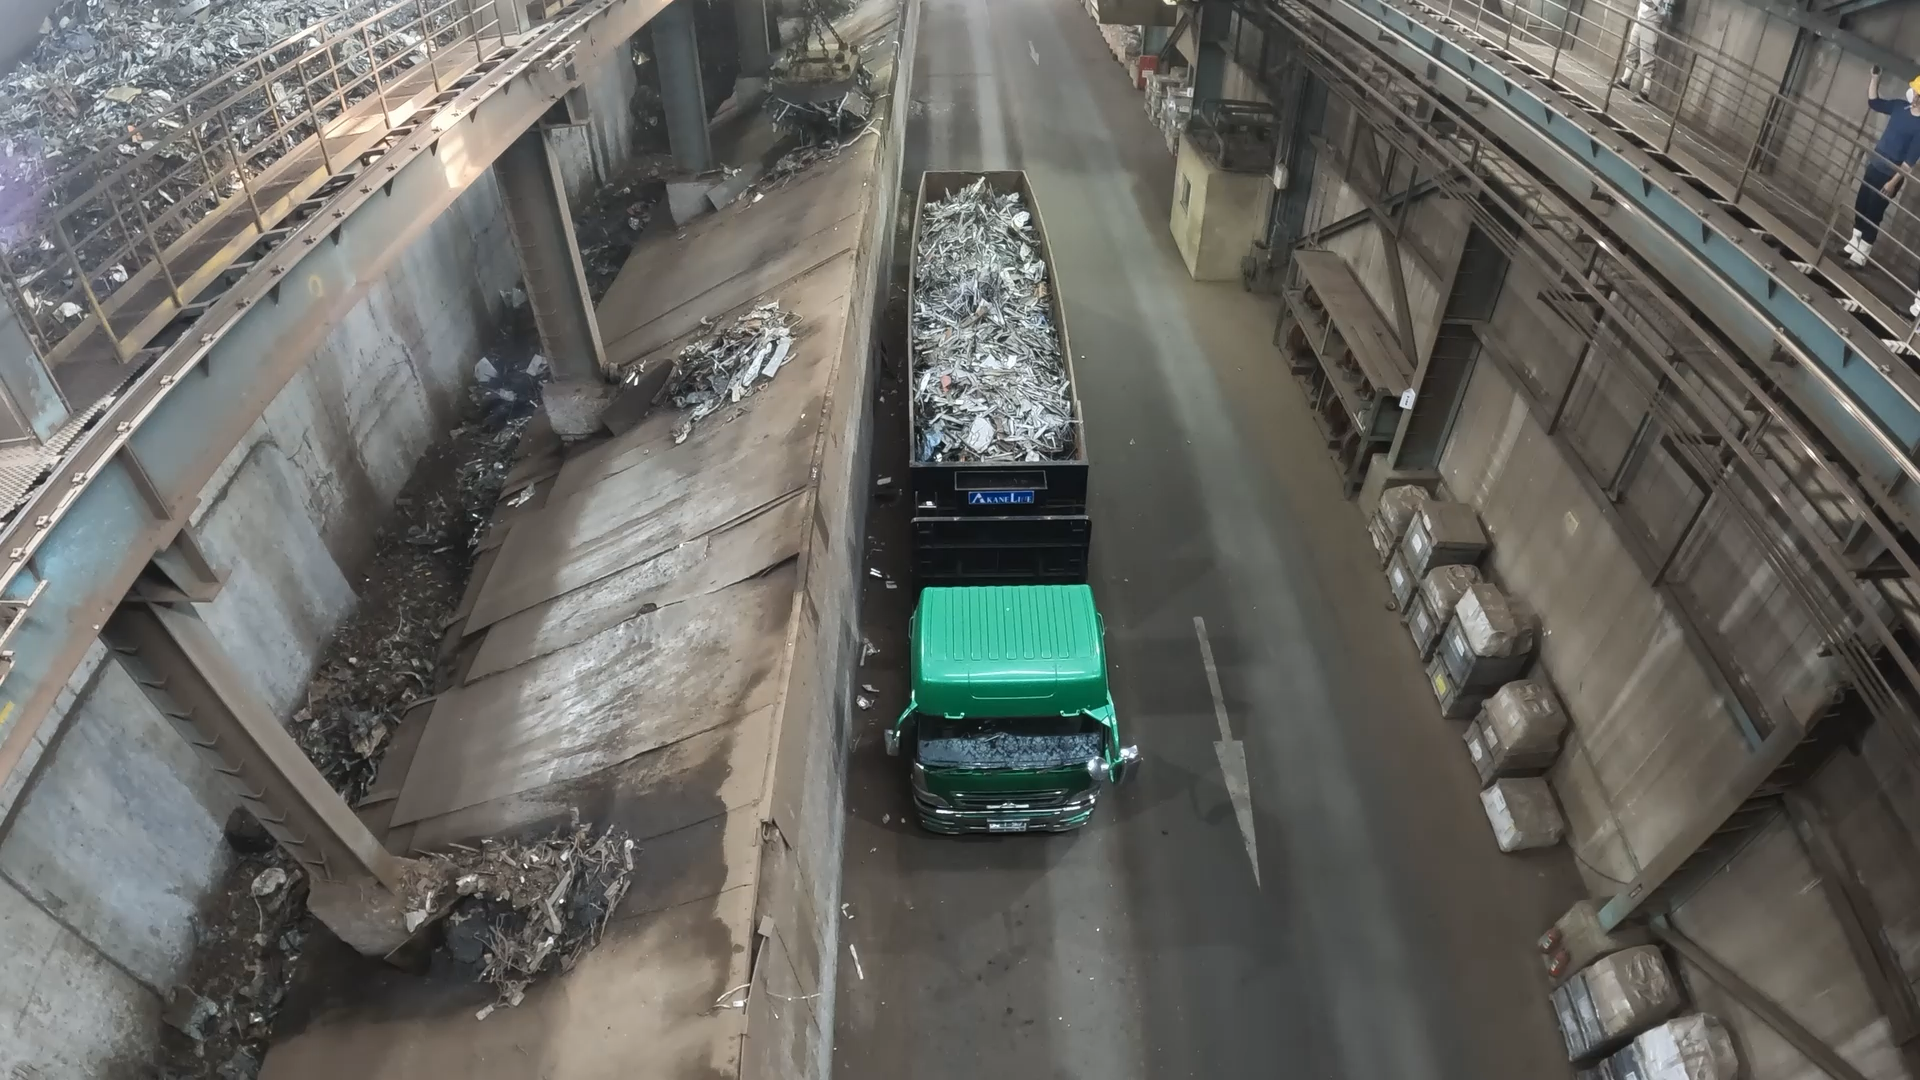truck: (907, 167, 1087, 467)
